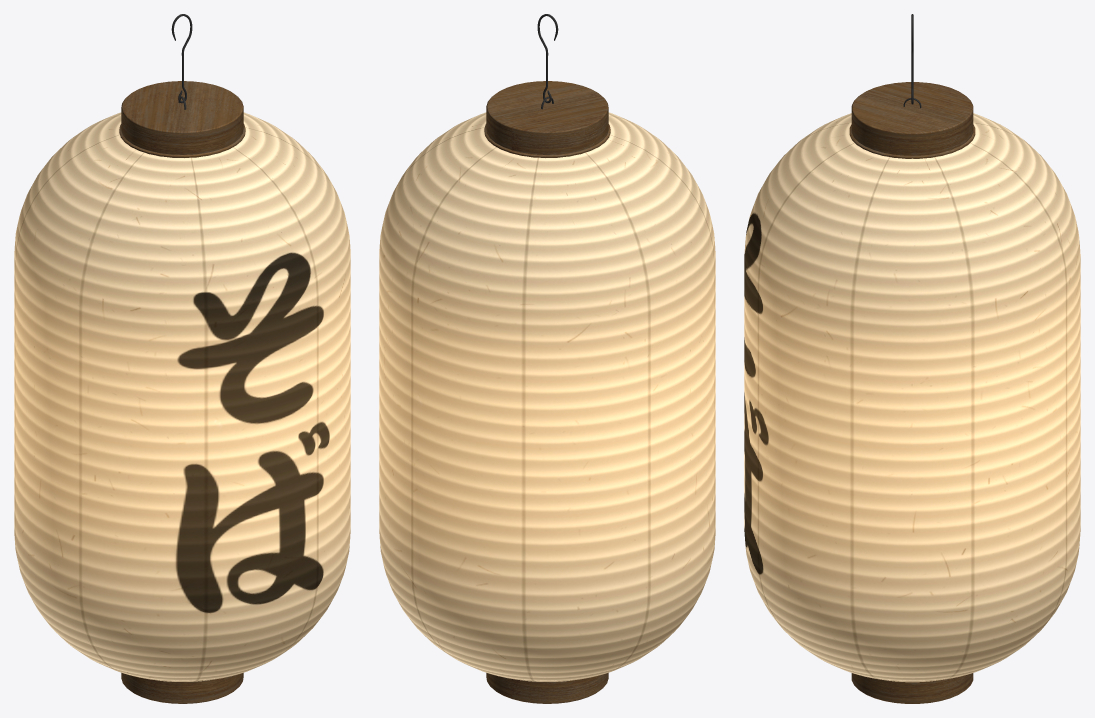
Rendered from japanese_paper_lantern.glb.
3 views of the same model, side by side, from view 1: azimuth 30°, elevation 25°; view 2: azimuth 150°, elevation 25°; view 3: azimuth 270°, elevation 25° (orthographic).
Visible parts, largest first — view 1: paper lantern; view 2: paper lantern; view 3: paper lantern.
Part boxes in pixels (left/top/right/bottom): paper lantern: left=14, top=14, right=350, bottom=703; paper lantern: left=379, top=14, right=715, bottom=703; paper lantern: left=744, top=14, right=1080, bottom=703.
Bounding box in the file's own units: 0.3637 × 0.7924 × 0.3637.
1 material, 1 textured.
